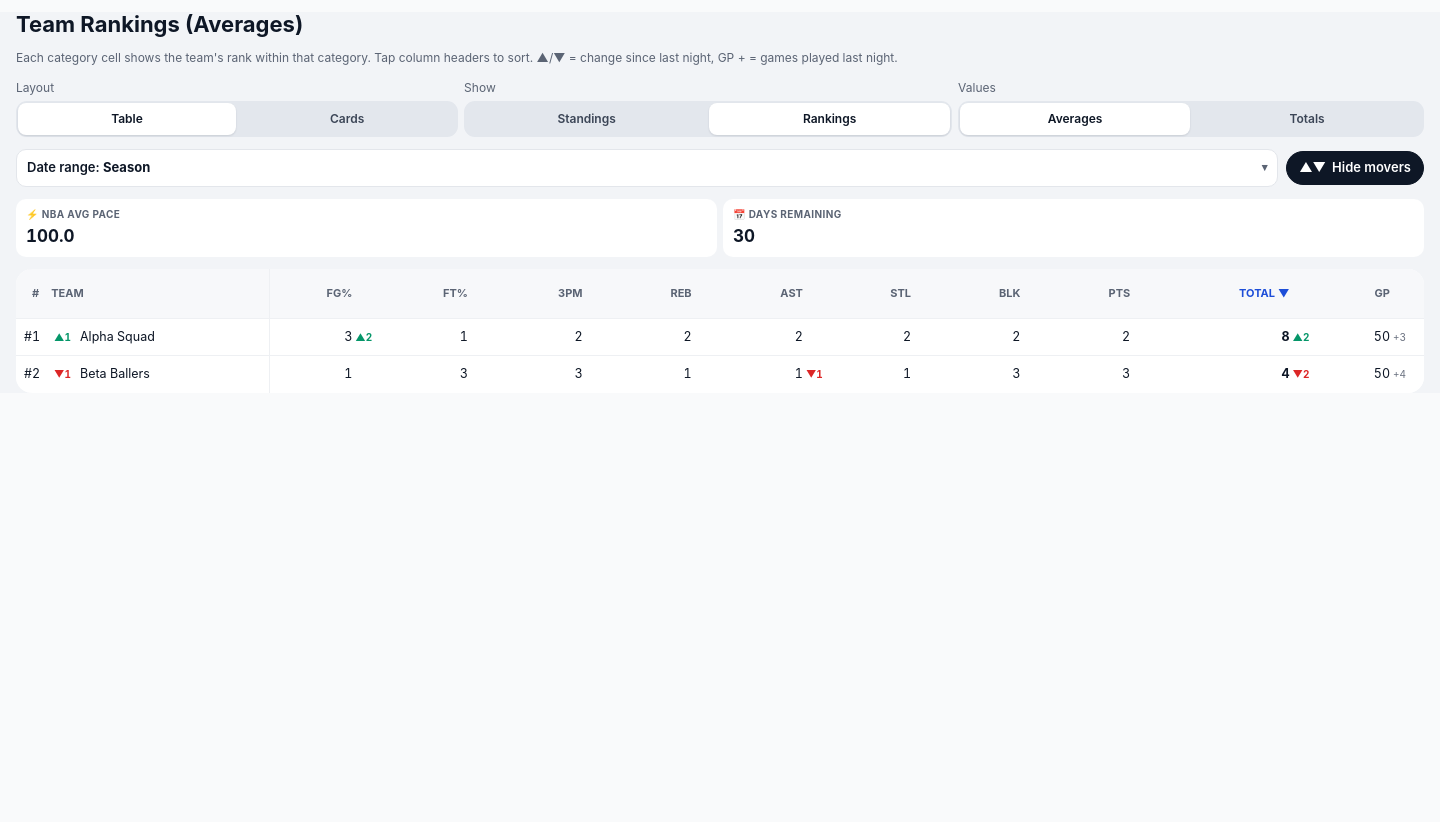
Test: Rankings page — phone redesign › date range is collapsed behind a button and keeps From/To, Apply, Clear and Quick range
Expected: the text "Quick range" is not shown
Click the button "Date range: Season ▾".
click(65, 167)  # box [16, 149, 1278, 187]
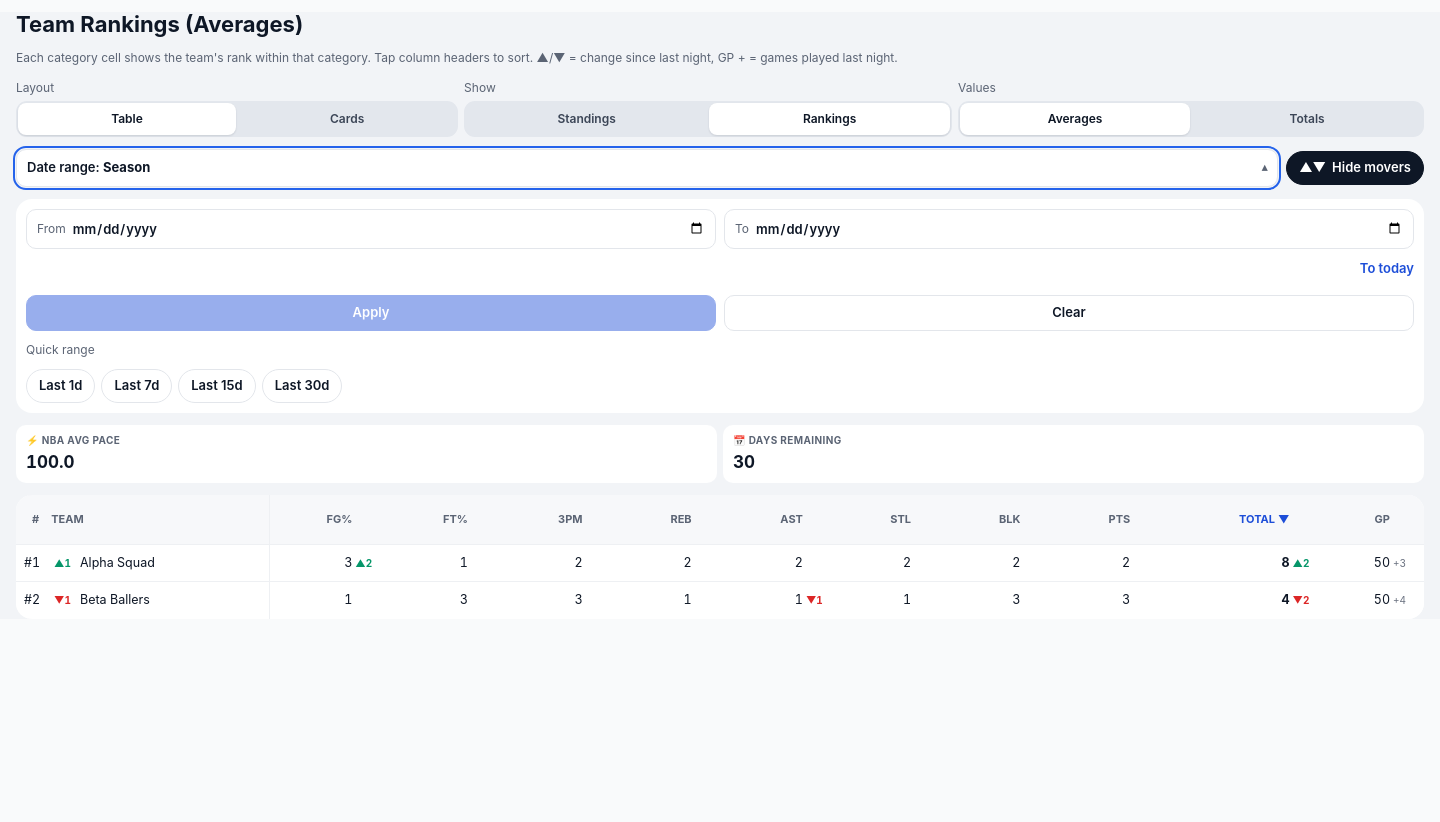
Expected: the date field labelled "From" is shown, [72, 211, 705, 247]
Expected: the date field labelled "To" is shown, [755, 211, 1403, 247]
Expected: the button "Apply" is disabled, [26, 295, 716, 331]
Click the button with aria-label "Set date range to last 7 days through today".
click(137, 386)  # box [102, 369, 172, 403]
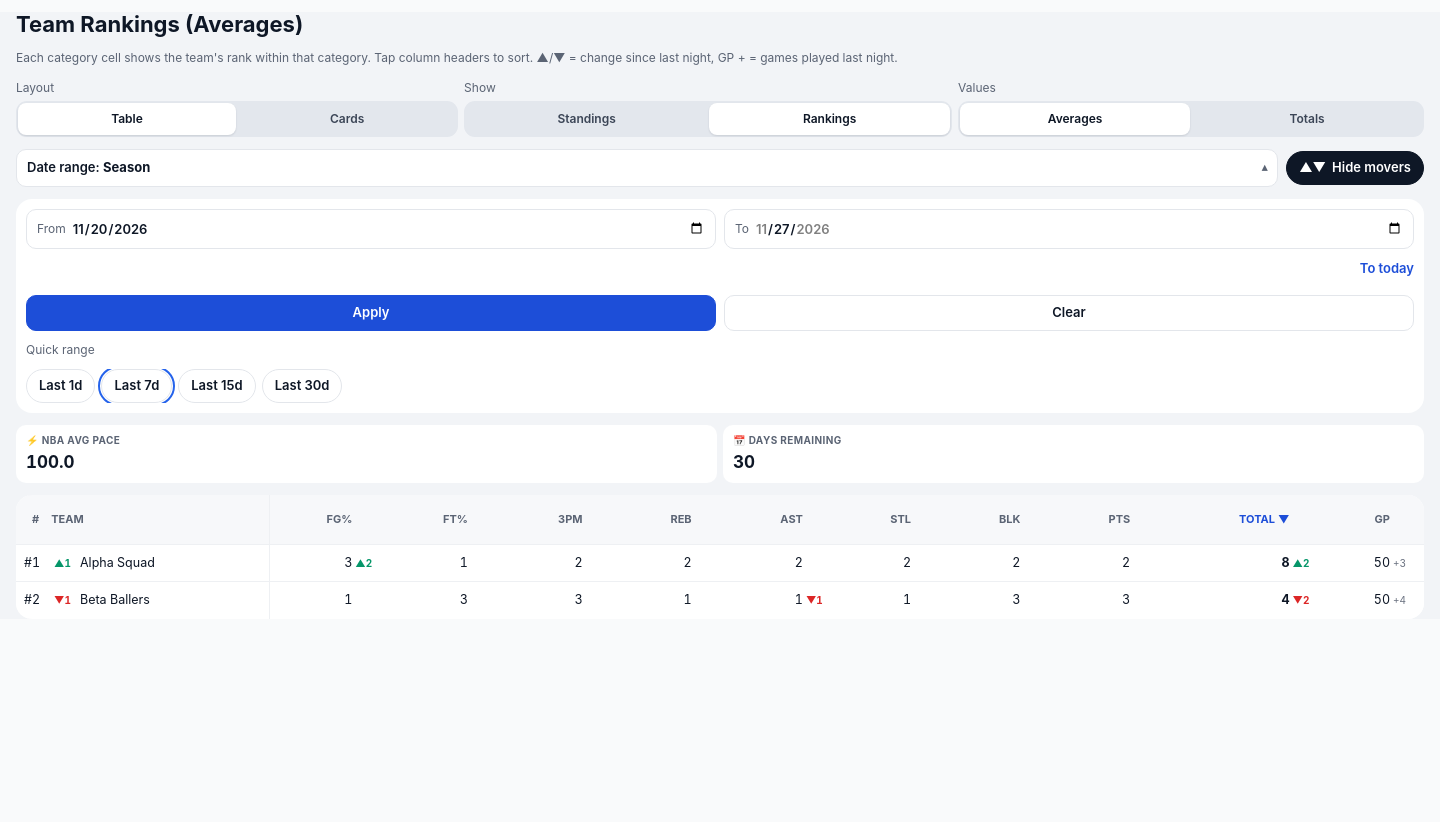
Expected: the date field labelled "To" is not empty, [755, 211, 1403, 247]
Expected: the button "Apply" is enabled, [26, 295, 716, 331]
